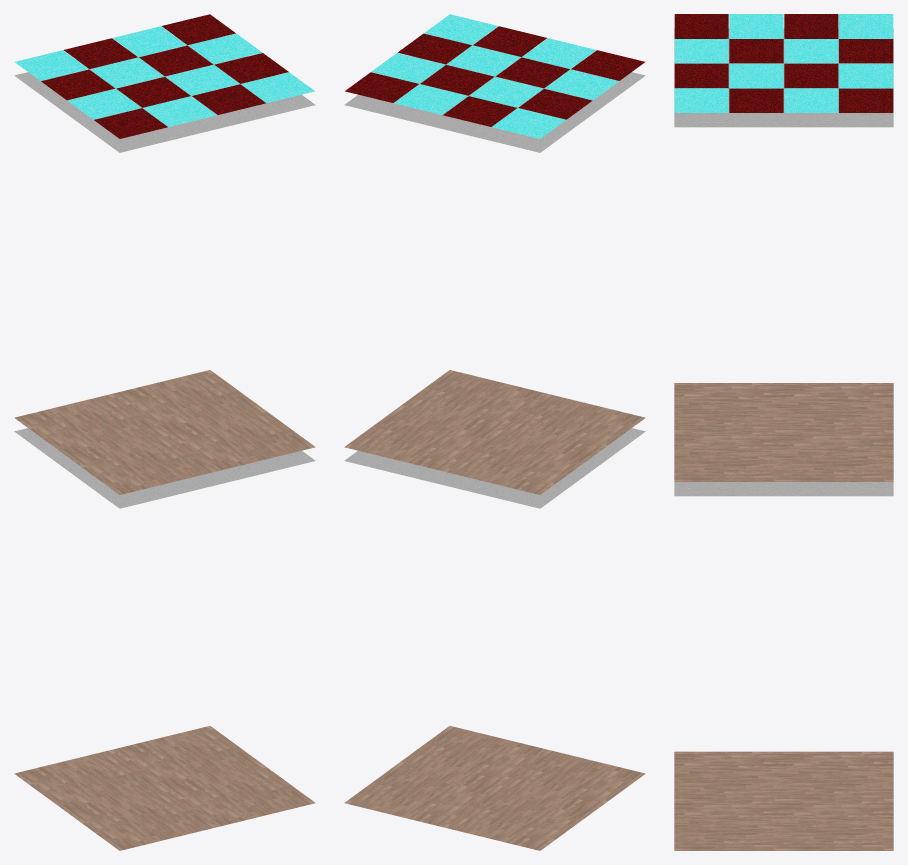
The model's file is SM_Floor_1-2-Attic_220.fbx.
The picture shows the model from 3 angles, left to right: view 1: azimuth 30°, elevation 25°; view 2: azimuth 150°, elevation 25°; view 3: azimuth 270°, elevation 25°; orthographic projection. The views are drawn at different scales.
Visible parts, largest first — view 1: SM_Floor_1-2-Attic_220; view 2: SM_Floor_1-2-Attic_220; view 3: SM_Floor_1-2-Attic_220.
Boxes of the visible parts, <box> form: SM_Floor_1-2-Attic_220: <box>14,14,315,850</box>; SM_Floor_1-2-Attic_220: <box>344,14,645,850</box>; SM_Floor_1-2-Attic_220: <box>674,14,893,850</box>.
Bounding box in the file's own units: 150 × 140 × 520.
Materials: 3 (3 with a texture image).
